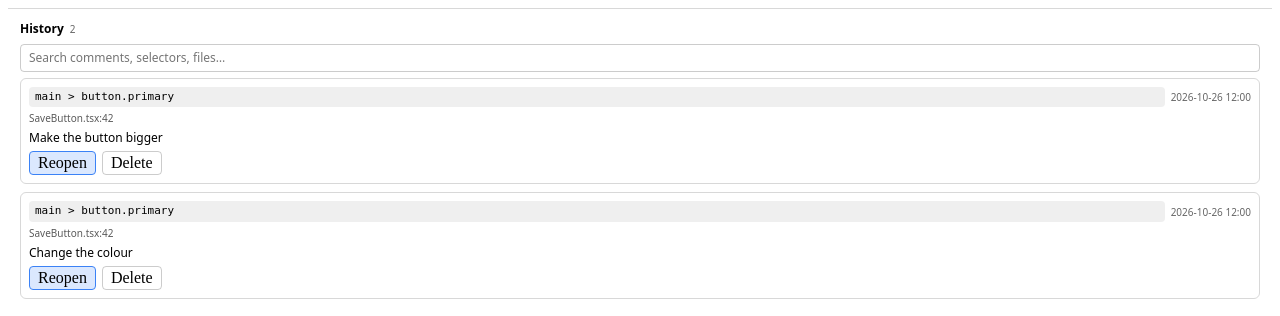
Scenario: AnnotationHistory search › sends the query to the Host and shows matches only
In the search field named "Search annotation history": (640, 58) top-left (20, 44), bottom-right (1260, 72), type "colour"
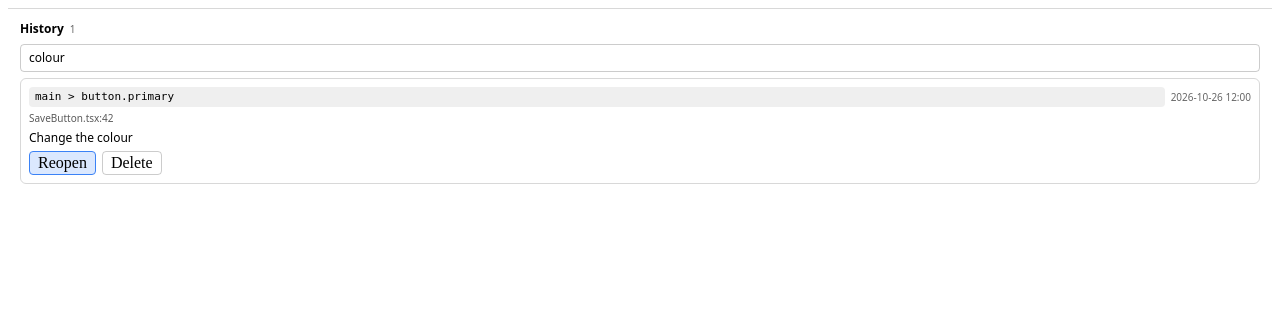
Now the text "Make the button bigger" is gone
Now the text "Change the colour" is shown, box top-left (29, 129), bottom-right (133, 146)
